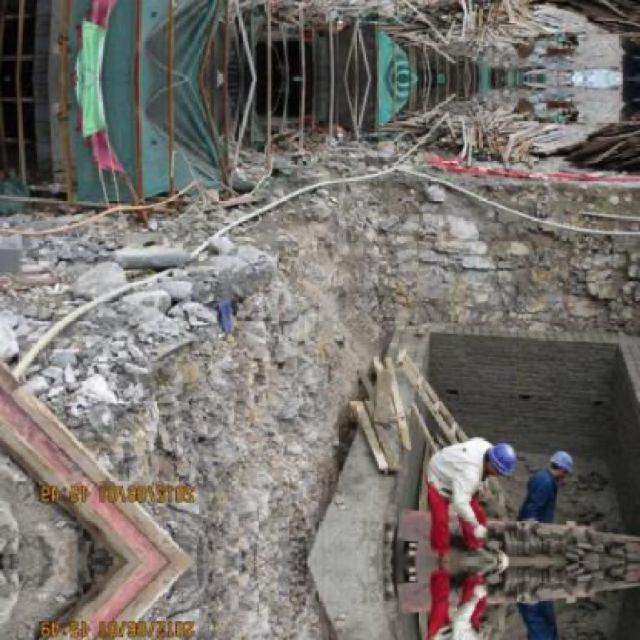con casco: (540, 441, 586, 483), (474, 435, 516, 478)
